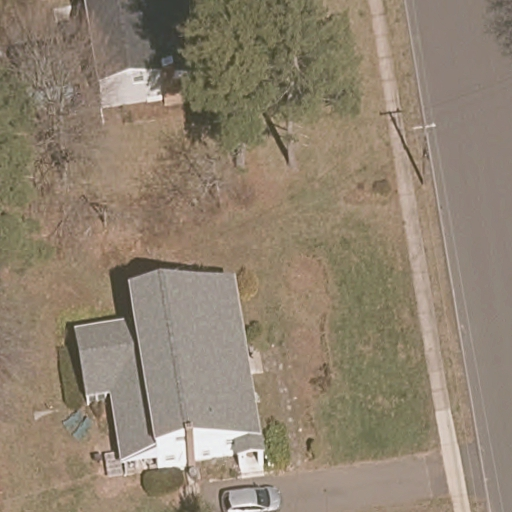DT: (411, 122, 437, 186)
